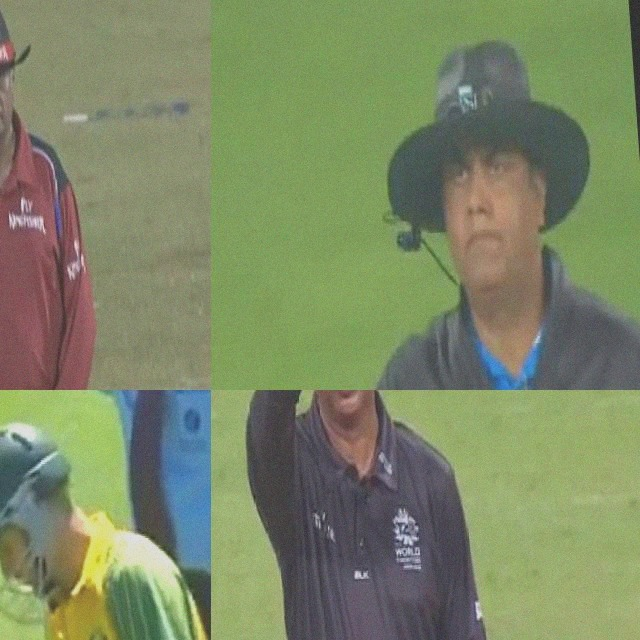No_Ball: (211, 13, 640, 390)
Out: (223, 390, 502, 640), (0, 0, 114, 390)
Wide: (0, 390, 211, 572)
